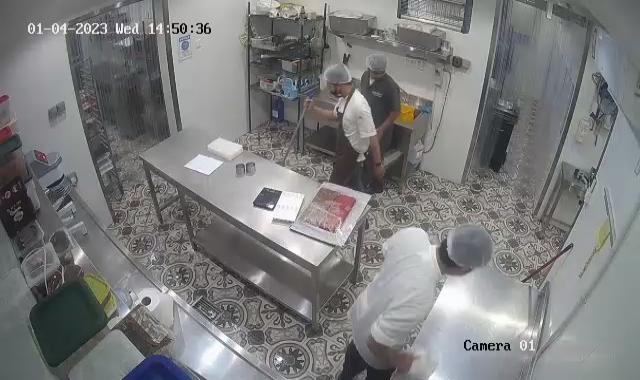hairnet: (443, 220, 494, 275), (322, 62, 353, 90), (363, 52, 388, 77)
